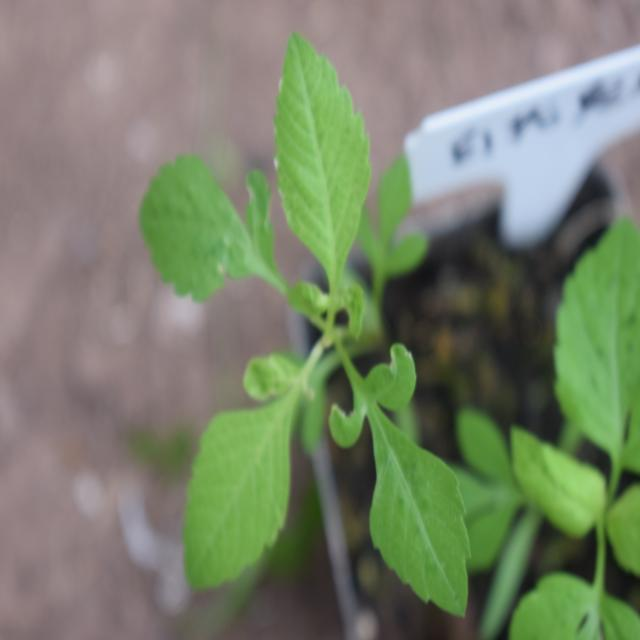Bidens pilosa: (133, 71, 474, 614)
